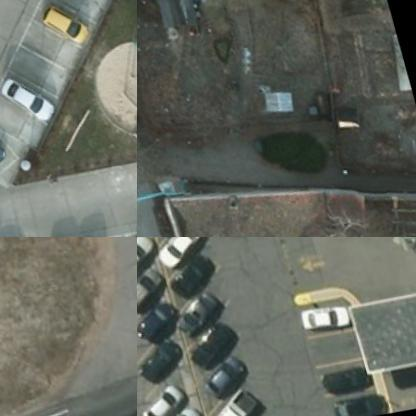car: (30, 0, 100, 57), (171, 280, 238, 338), (166, 246, 234, 303), (192, 346, 258, 404), (184, 314, 252, 370), (137, 330, 201, 389), (0, 67, 60, 129), (137, 291, 188, 350), (137, 374, 202, 415), (151, 237, 220, 274), (137, 252, 181, 310), (198, 379, 268, 415), (296, 292, 356, 330), (316, 348, 374, 386), (330, 383, 388, 415), (137, 237, 170, 286), (147, 395, 217, 415)
